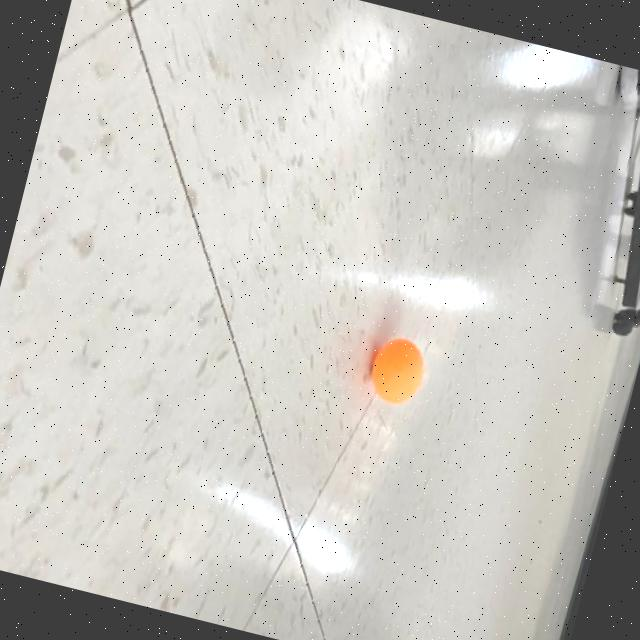ping-pong-ball: (360, 328, 432, 413)
